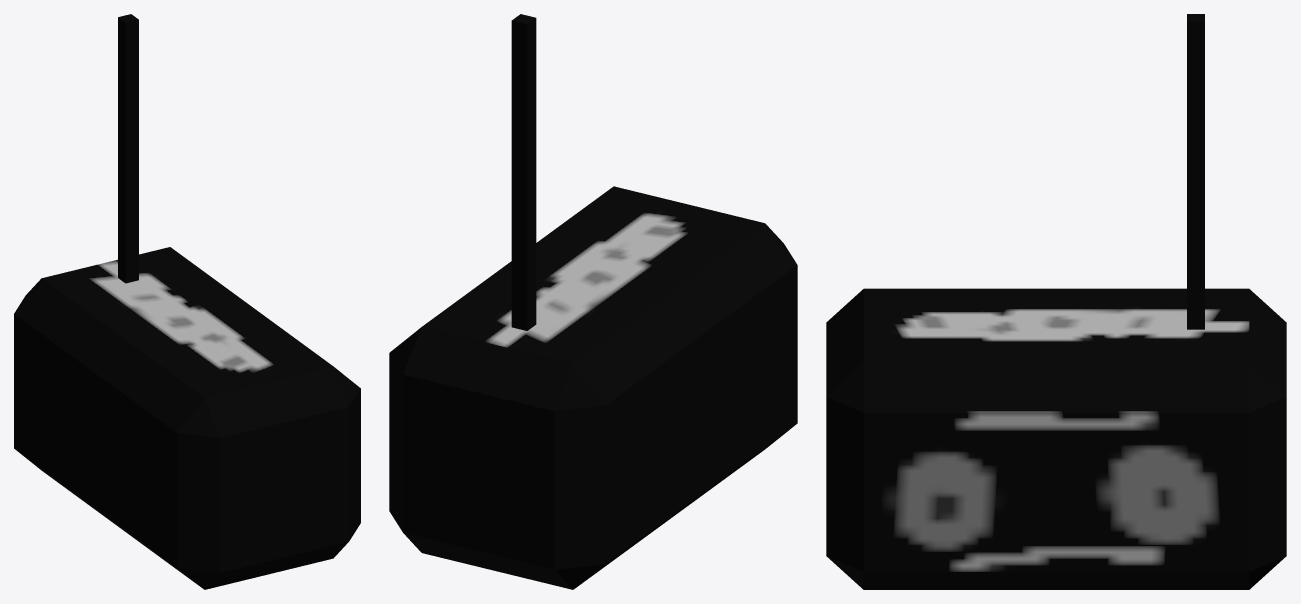
File: radio.glb
The picture shows the model from 3 angles, left to right: view 1: azimuth 30°, elevation 25°; view 2: azimuth 150°, elevation 25°; view 3: azimuth 270°, elevation 25°; orthographic projection. The views are drawn at different scales.
Parts seen in each view (by area): view 1: Cube, Cube.001; view 2: Cube, Cube.001; view 3: Cube, Cube.001.
Part boxes in pixels (x1,y1,x2,y2): Cube: (14,247,360,589); Cube.001: (118,14,138,283); Cube: (389,186,797,589); Cube.001: (511,14,536,330); Cube: (826,288,1286,589); Cube.001: (1187,14,1204,329).
Bounding box in the file's own units: 0.3176 × 0.7483 × 0.5838.
2 materials, 1 textured.
